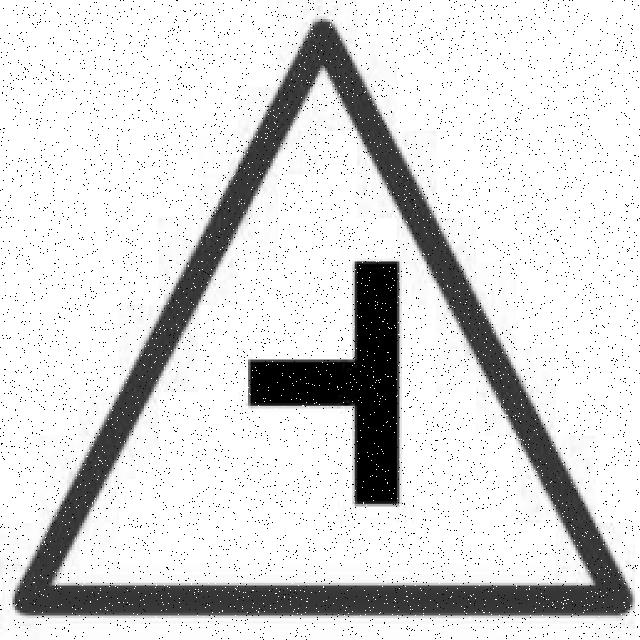Sideroad_toleft: (40, 26, 632, 635)
